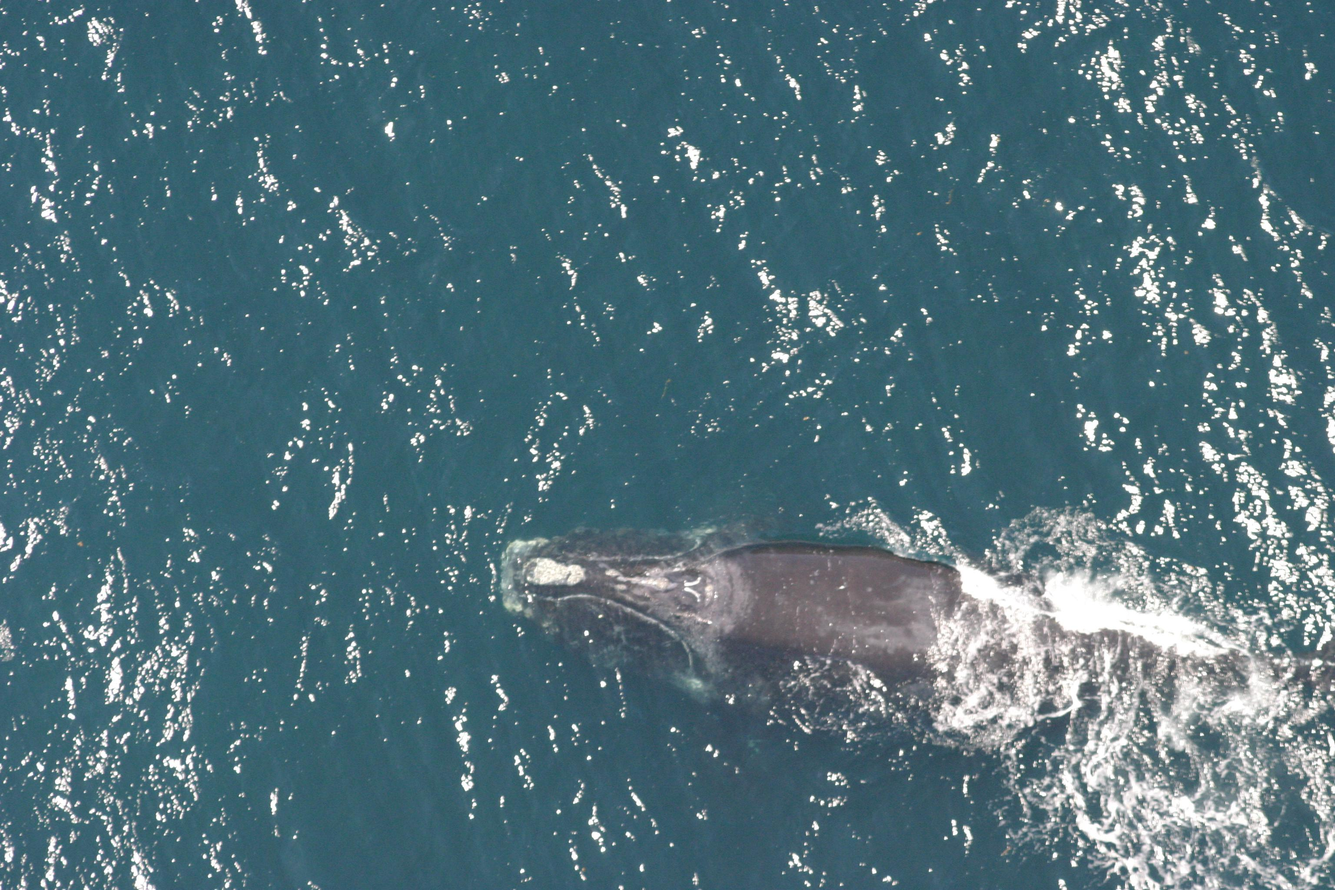whale: (484, 512, 1335, 767)
